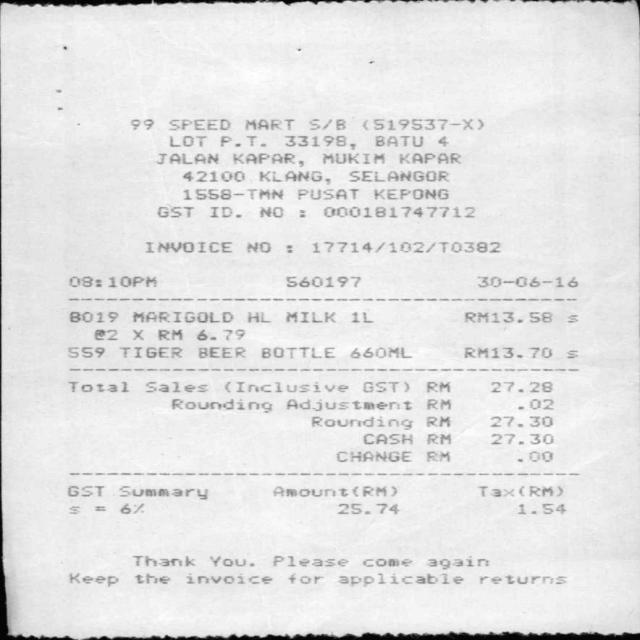text: (311, 241, 498, 252), (324, 206, 474, 217), (171, 398, 271, 412), (338, 573, 462, 584), (274, 485, 395, 496), (363, 119, 482, 130), (310, 416, 410, 429), (286, 400, 410, 410), (118, 486, 206, 500), (131, 310, 232, 322), (225, 382, 347, 391), (183, 189, 282, 200), (478, 276, 576, 286), (464, 347, 550, 358), (350, 170, 444, 180), (69, 275, 154, 286), (258, 171, 329, 184), (284, 136, 354, 149), (145, 242, 231, 252), (465, 312, 550, 322), (477, 486, 562, 496), (185, 573, 270, 583), (336, 451, 411, 462), (261, 347, 333, 358), (374, 189, 448, 199), (285, 276, 359, 286), (273, 556, 346, 566), (232, 154, 302, 164), (66, 572, 116, 586), (479, 575, 565, 583), (490, 415, 552, 426), (337, 503, 399, 514), (131, 555, 193, 566), (491, 433, 552, 444), (169, 119, 229, 130), (120, 347, 180, 358), (429, 558, 488, 569), (181, 171, 243, 181), (399, 153, 460, 163), (322, 153, 383, 163), (157, 154, 218, 164), (296, 189, 357, 199), (350, 348, 410, 358), (67, 382, 127, 392), (490, 382, 550, 392), (516, 503, 566, 514), (145, 382, 205, 391), (68, 311, 117, 322), (246, 119, 294, 130), (196, 329, 244, 340), (375, 135, 421, 146), (220, 135, 265, 146), (198, 347, 243, 358), (285, 312, 334, 322), (362, 434, 410, 444), (286, 572, 322, 584), (66, 485, 104, 496), (363, 382, 408, 391), (169, 135, 205, 146), (209, 556, 253, 565), (135, 572, 168, 584), (309, 119, 344, 130), (67, 346, 102, 357), (156, 206, 192, 216), (209, 206, 240, 217), (518, 399, 552, 409), (517, 451, 551, 461), (362, 559, 410, 566), (158, 330, 182, 340), (246, 242, 269, 252), (427, 398, 450, 408), (426, 416, 449, 426), (427, 434, 450, 444), (94, 330, 116, 340), (131, 119, 152, 129), (247, 312, 268, 322), (427, 450, 448, 460), (259, 207, 282, 216), (426, 382, 449, 391), (351, 312, 371, 322), (120, 504, 141, 513), (132, 330, 142, 340), (566, 350, 577, 358), (437, 137, 447, 145), (567, 315, 577, 322), (68, 506, 78, 513)
